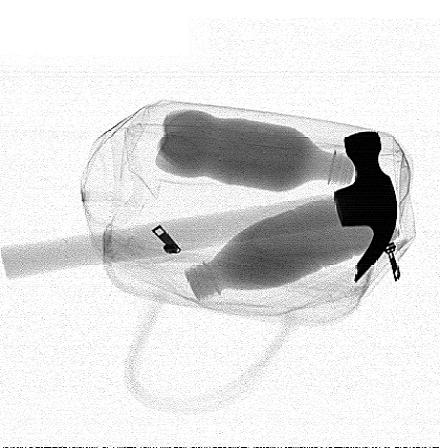Hammer: (3, 130, 399, 283)
